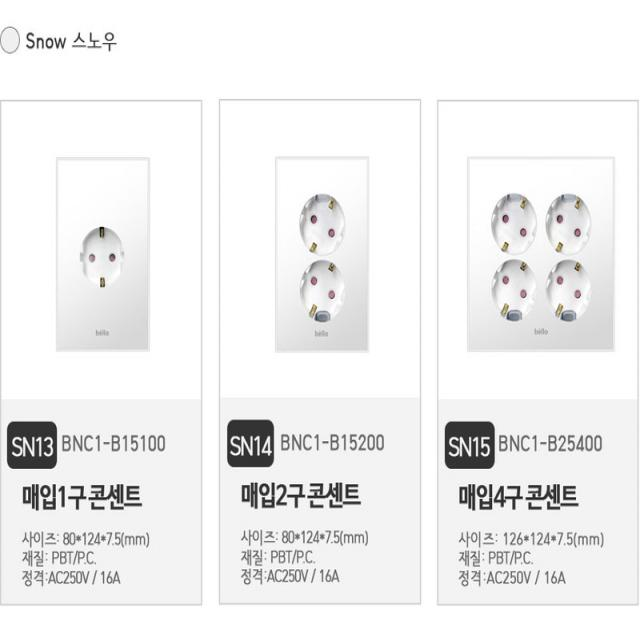typeb: (455, 150, 619, 358), (268, 147, 383, 364), (54, 140, 158, 356)
